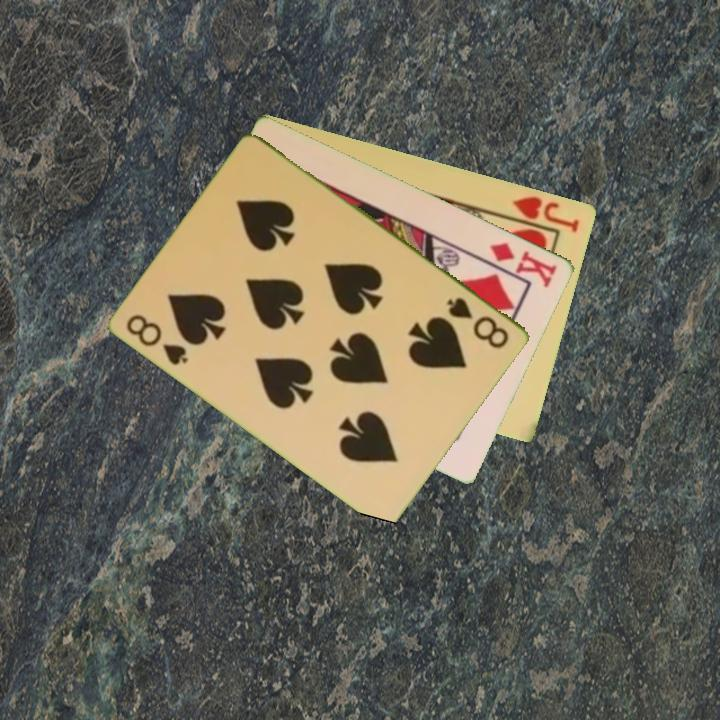8s: (443, 293, 513, 352), (123, 310, 192, 369)
Jh: (509, 192, 583, 235)
Kd: (487, 238, 561, 290)
